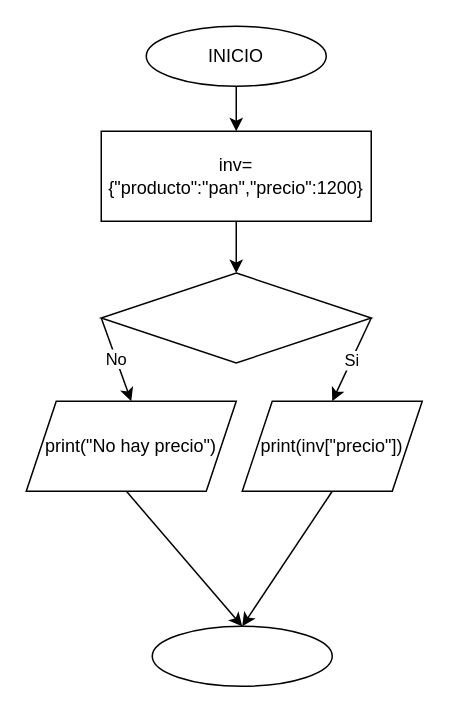
Image size: 449x713. Some labels were removed from this diagram. The centre of each missing label's shape, as x and y in pixels:
FIN: (x=241, y=655)
if "precio" in inv:: (x=235, y=317)
